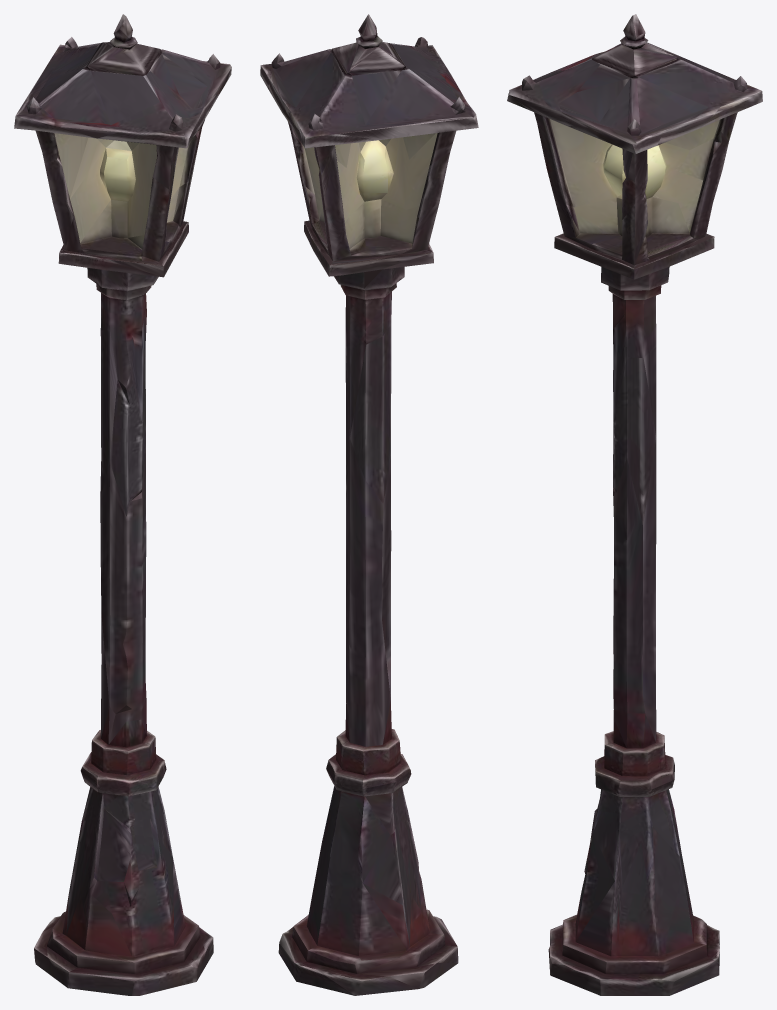
The model's file is bg_city_pole_1_lod0.glb.
The picture shows the model from 3 angles, left to right: view 1: azimuth 30°, elevation 25°; view 2: azimuth 150°, elevation 25°; view 3: azimuth 270°, elevation 25°; orthographic projection.
Parts seen in each view (by area): view 1: body; view 2: body; view 3: body.
Boxes of the visible parts, x1,y1,x2,y2 form: body: [14, 14, 231, 995]; body: [260, 14, 478, 995]; body: [507, 14, 762, 995].
Size of the model in its own units: 0.9662 by 4 by 0.981.
1 material, 1 textured.
